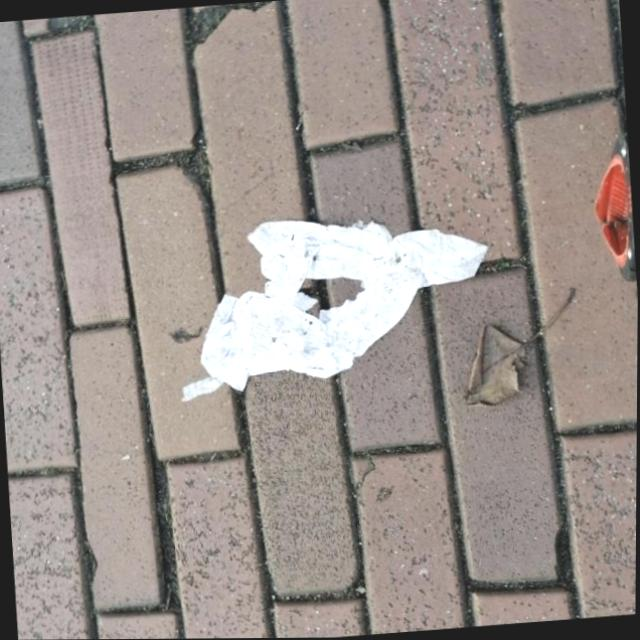Paper: (164, 202, 499, 404)
